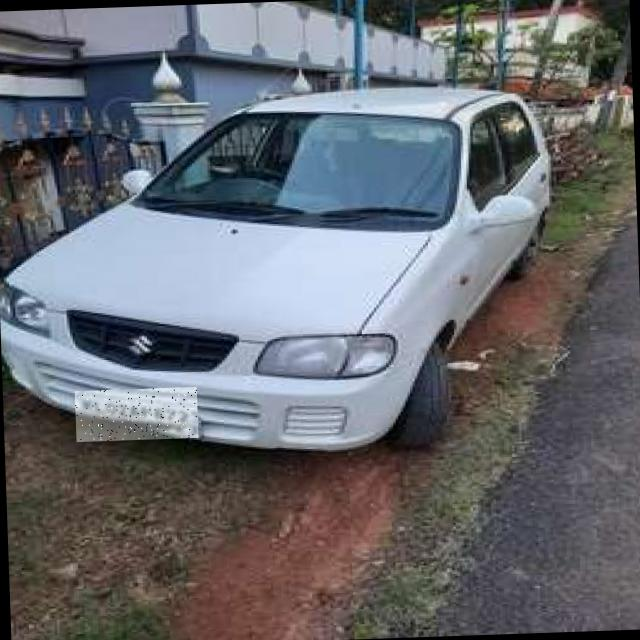Plate: (75, 388, 199, 443)
